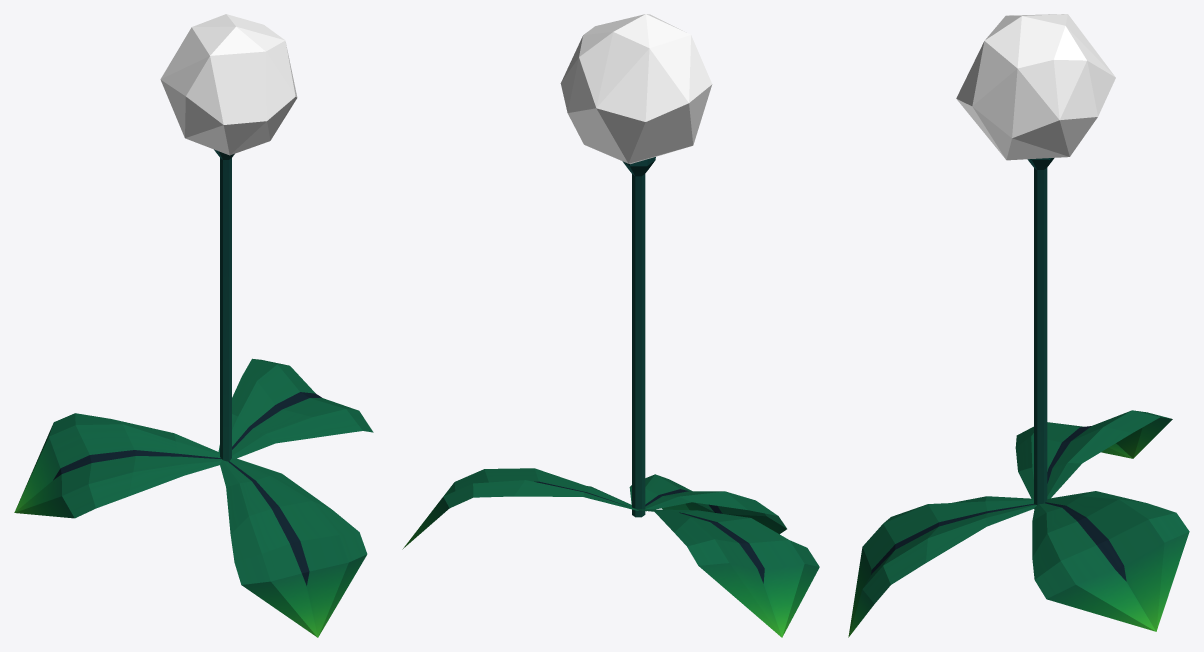
The model's file is Flower_PoofFlower.fbx.
3 renders of one model, left to right at view 1: azimuth 30°, elevation 25°; view 2: azimuth 150°, elevation 25°; view 3: azimuth 270°, elevation 25°, orthographic. The views are drawn at different scales.
Parts seen in each view (by area): view 1: Plane.023; view 2: Plane.023; view 3: Plane.023.
Part boxes in pixels (x1,y1,x2,y2): Plane.023: (14, 14, 373, 637); Plane.023: (402, 14, 819, 637); Plane.023: (848, 14, 1189, 637).
Size of the model in its own units: 41.25 by 66.3 by 33.09.
